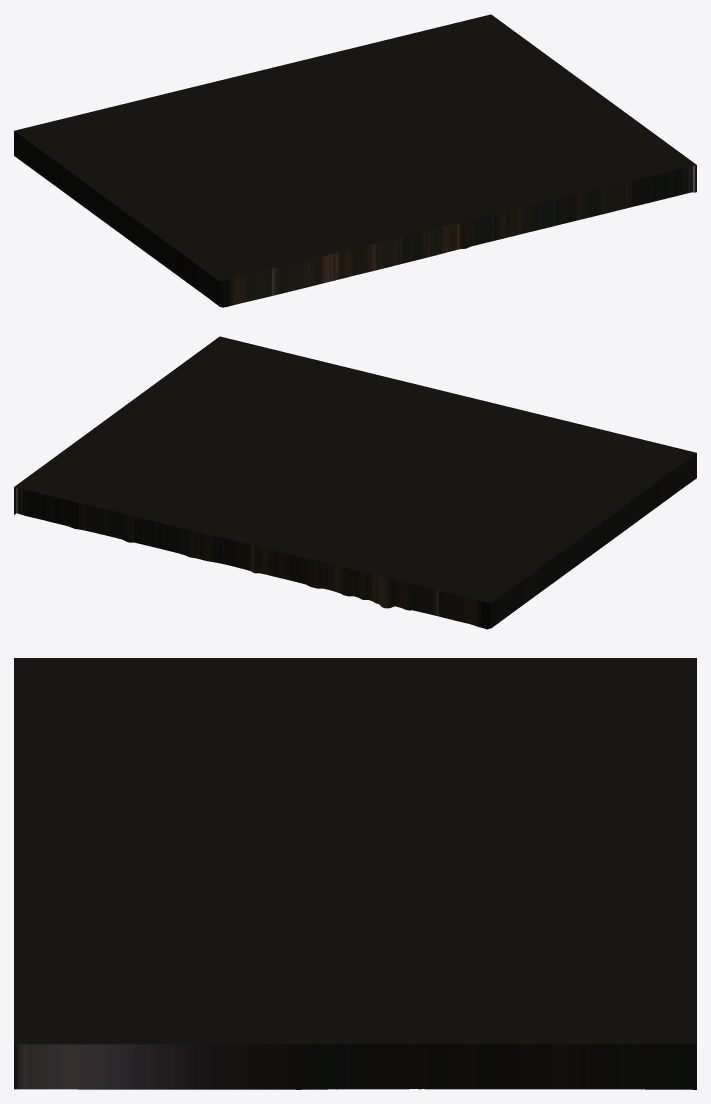
Rendered from dogs-playing-poker.glb.
The picture shows the model from 3 angles, top to bottom: view 1: azimuth 30°, elevation 25°; view 2: azimuth 150°, elevation 25°; view 3: azimuth 270°, elevation 25°; orthographic projection. The views are drawn at different scales.
Parts seen in each view (by area): view 1: Dogs Playing Poker - C.M. Coolidge.stl; view 2: Dogs Playing Poker - C.M. Coolidge.stl; view 3: Dogs Playing Poker - C.M. Coolidge.stl.
Boxes of the visible parts, x1,y1,x2,y2 form: Dogs Playing Poker - C.M. Coolidge.stl: (14,14,696,307); Dogs Playing Poker - C.M. Coolidge.stl: (14,336,696,629); Dogs Playing Poker - C.M. Coolidge.stl: (14,658,696,1089).
Bounding box in the file's own units: 100 × 9.6 × 74.7.
Materials: 1 (1 with a texture image).
